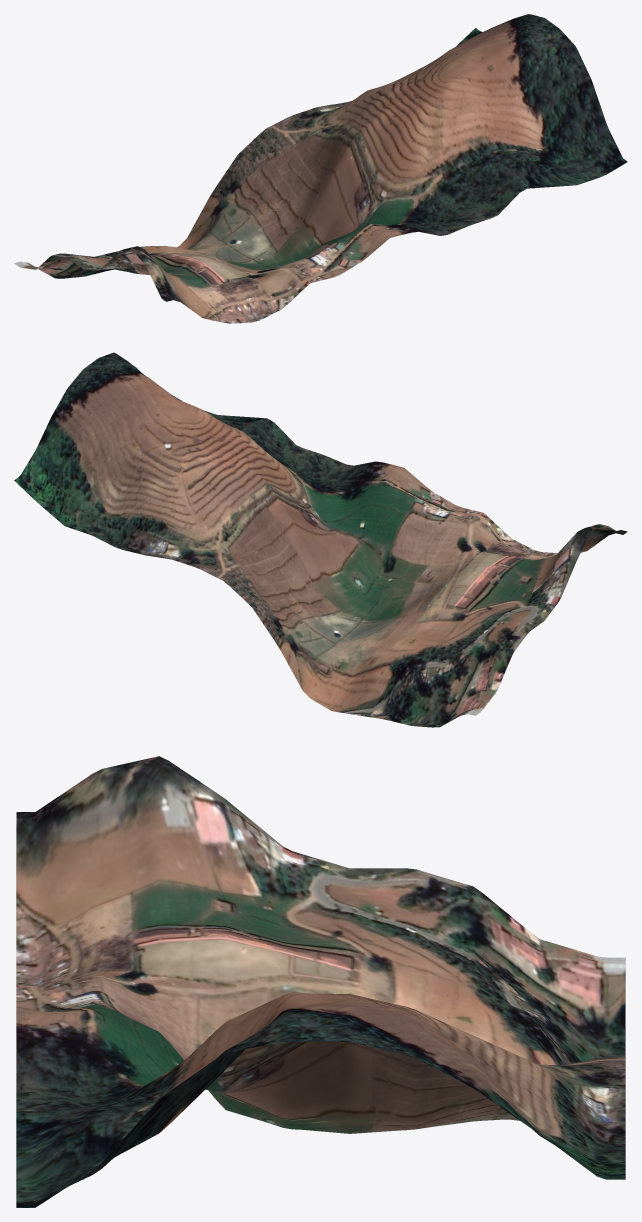
The model's file is earth.glb.
3 views of the same model, one above another, from view 1: azimuth 30°, elevation 25°; view 2: azimuth 150°, elevation 25°; view 3: azimuth 270°, elevation 25° (orthographic). The views are drawn at different scales.
Parts seen in each view (by area): view 1: EXPORT_GOOGLE_SAT_WM; view 2: EXPORT_GOOGLE_SAT_WM; view 3: EXPORT_GOOGLE_SAT_WM.
Part boxes in pixels (left/top/right/bottom): EXPORT_GOOGLE_SAT_WM: left=14, top=14, right=627, bottom=323; EXPORT_GOOGLE_SAT_WM: left=14, top=352, right=627, bottom=727; EXPORT_GOOGLE_SAT_WM: left=16, top=756, right=625, bottom=1207.
Size of the model in its own units: 535 by 239 by 306.
1 material, 1 textured.
